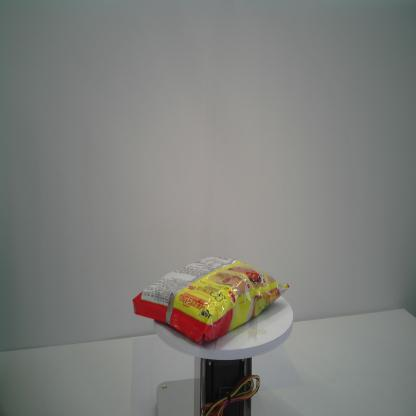Instant Noodles: (132, 255, 289, 345)
